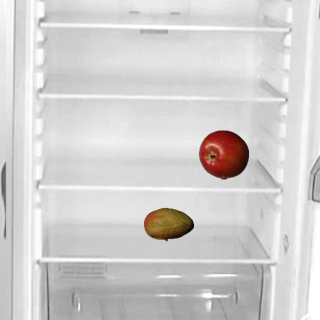Apple Braeburn: (198, 129, 248, 179)
Papaya: (143, 199, 193, 249)
